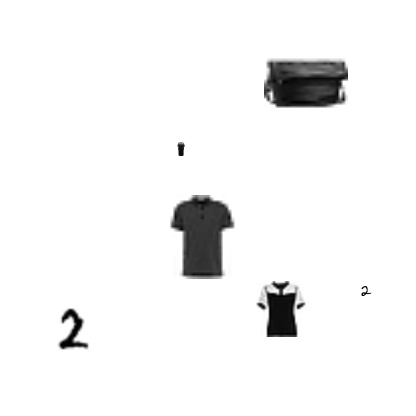2: (44, 301, 100, 357), (358, 284, 372, 298)
Bag: (264, 41, 348, 125)
Dress: (174, 142, 188, 156)
T-shirt/top: (159, 195, 243, 279), (253, 281, 309, 337)
